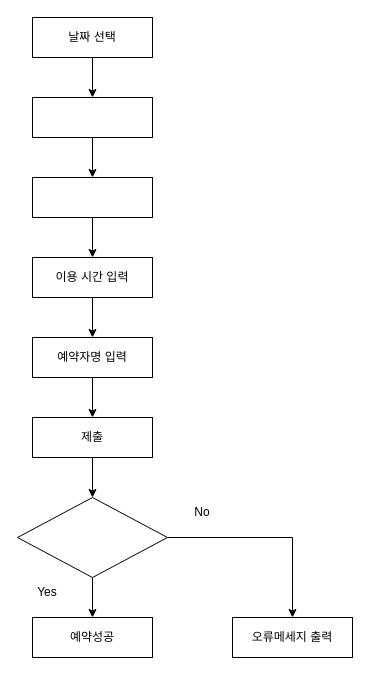
This 370x675 diagram has some shape labels left out. The centre of each missing label's shape, as x and y in pixels:
"시간 선택" goes at (92,197).
"예약 가능시간 출력" goes at (92,117).
"이미 예약되어있는 시간인지 확인" goes at (92,537).
